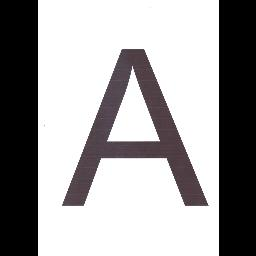a: (56, 34, 218, 220)
